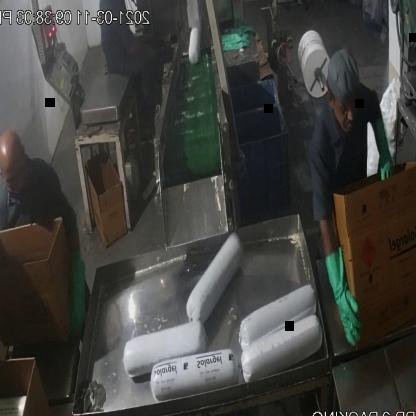glove: (323, 239, 366, 347), (368, 112, 394, 202), (69, 243, 89, 349)
no_glove: (119, 31, 156, 75)
